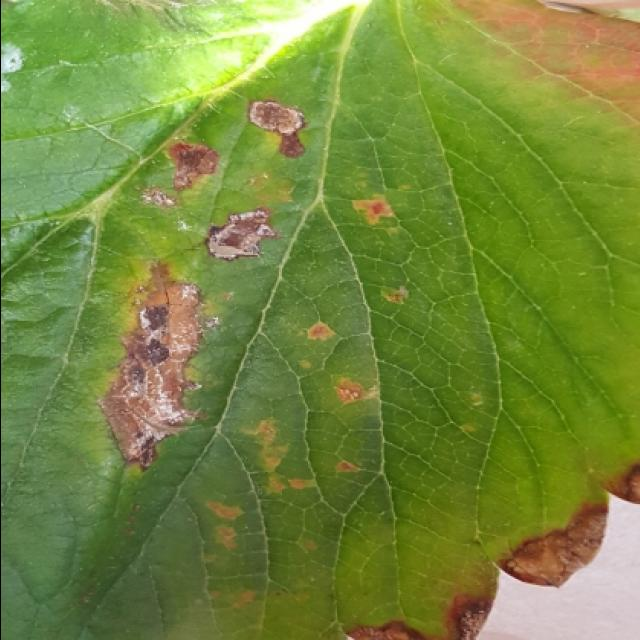Angular Leafspot: (94, 74, 502, 620)
